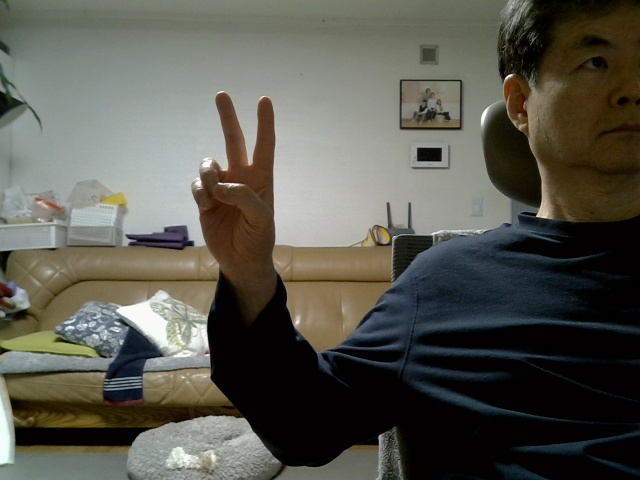scissors: (176, 77, 298, 258)
